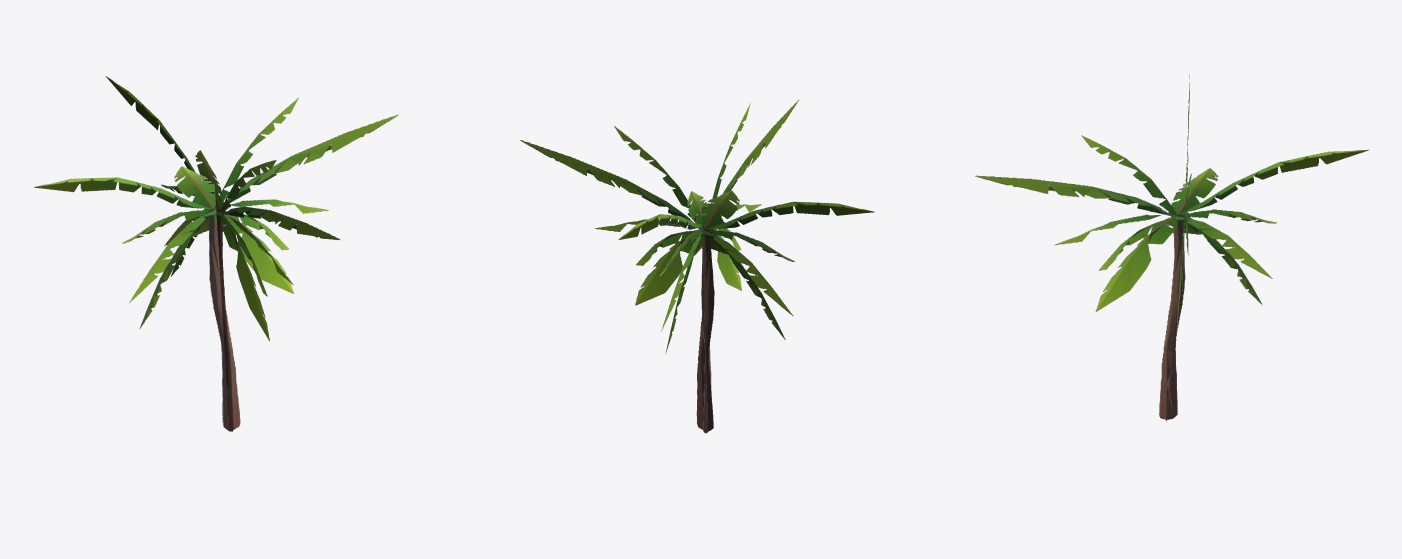
The model's file is Palm1Far.fbx.
3 renders of one model, left to right at view 1: azimuth 30°, elevation 25°; view 2: azimuth 150°, elevation 25°; view 3: azimuth 270°, elevation 25°, orthographic. The views are drawn at different scales.
Visible parts, largest first — view 1: Palm1Far; view 2: Palm1Far; view 3: Palm1Far.
Part boxes in pixels (x1,y1,x2,y2): Palm1Far: (33,76,398,431); Palm1Far: (520,100,874,433); Palm1Far: (975,74,1368,421).
Size of the model in its own units: 14.67 by 12.06 by 14.64.
